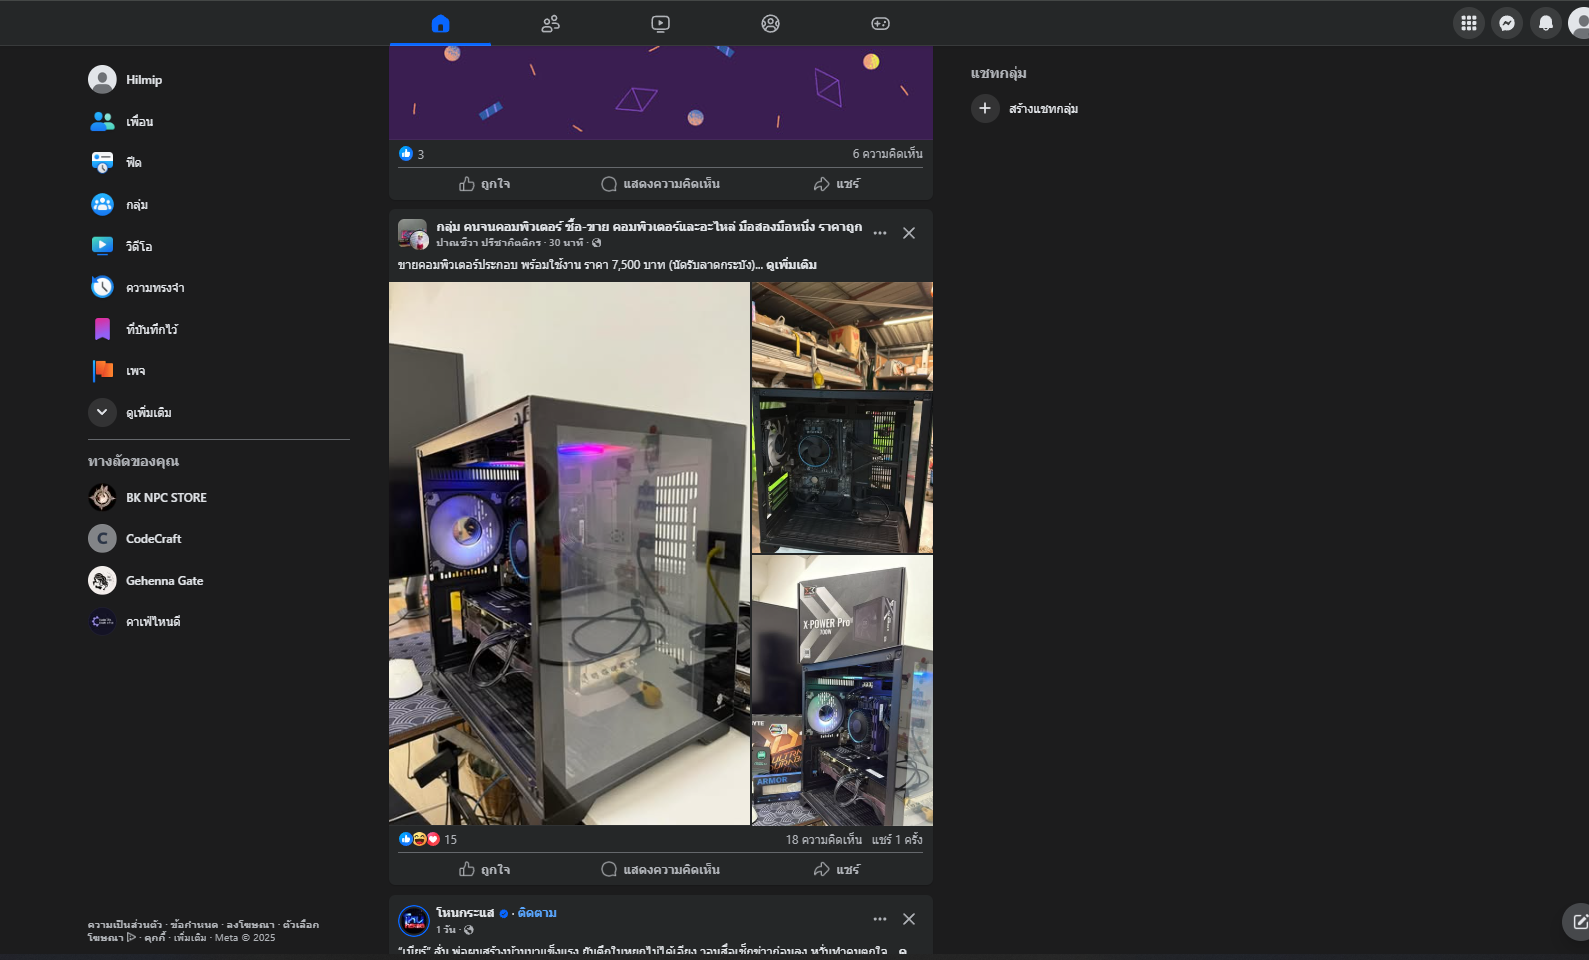topic: (388, 212, 933, 886), (389, 45, 931, 202), (387, 895, 936, 960)
